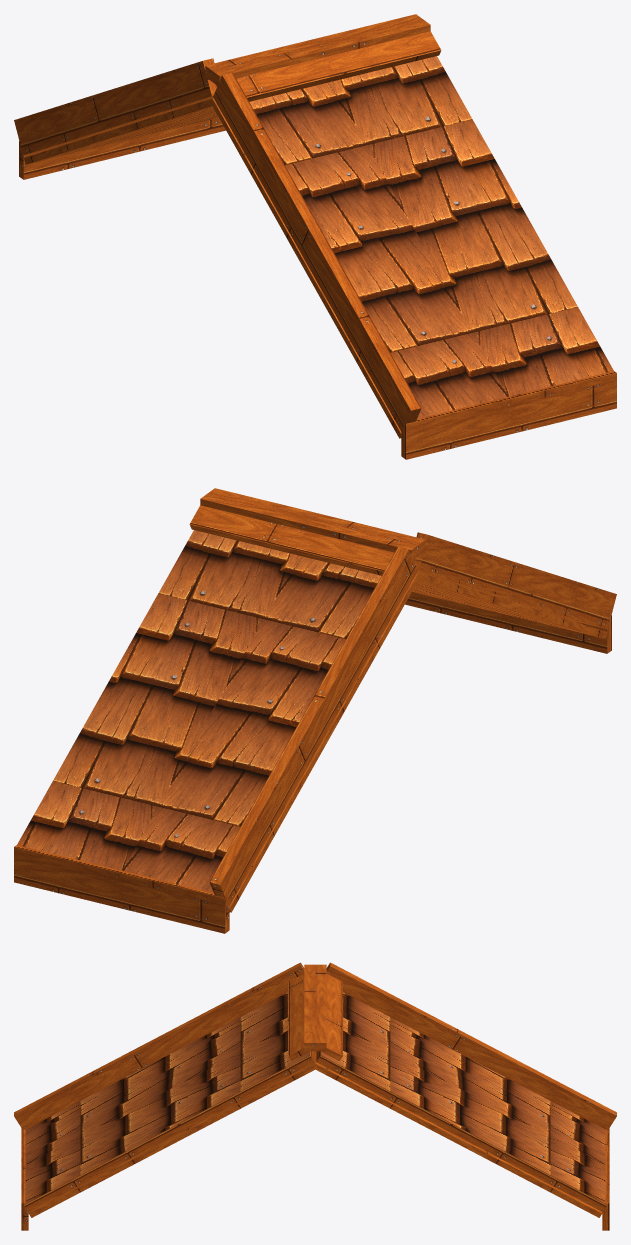
File: Roof3_SectionEdgeL_1m_NoEave.fbx
3 views of the same model, one above another, from view 1: azimuth 30°, elevation 25°; view 2: azimuth 150°, elevation 25°; view 3: azimuth 270°, elevation 25° (orthographic). The views are drawn at different scales.
Parts seen in each view (by area): view 1: Roof3_SectionEdgeL_1m_NoEave; view 2: Roof3_SectionEdgeL_1m_NoEave; view 3: Roof3_SectionEdgeL_1m_NoEave.
Boxes of the visible parts, x1=… form: Roof3_SectionEdgeL_1m_NoEave: x1=14, y1=14, x2=616, y2=459; Roof3_SectionEdgeL_1m_NoEave: x1=14, y1=488, x2=616, y2=933; Roof3_SectionEdgeL_1m_NoEave: x1=14, y1=962, x2=616, y2=1230.
Size of the model in its own units: 1 by 1.13 by 3.26.
